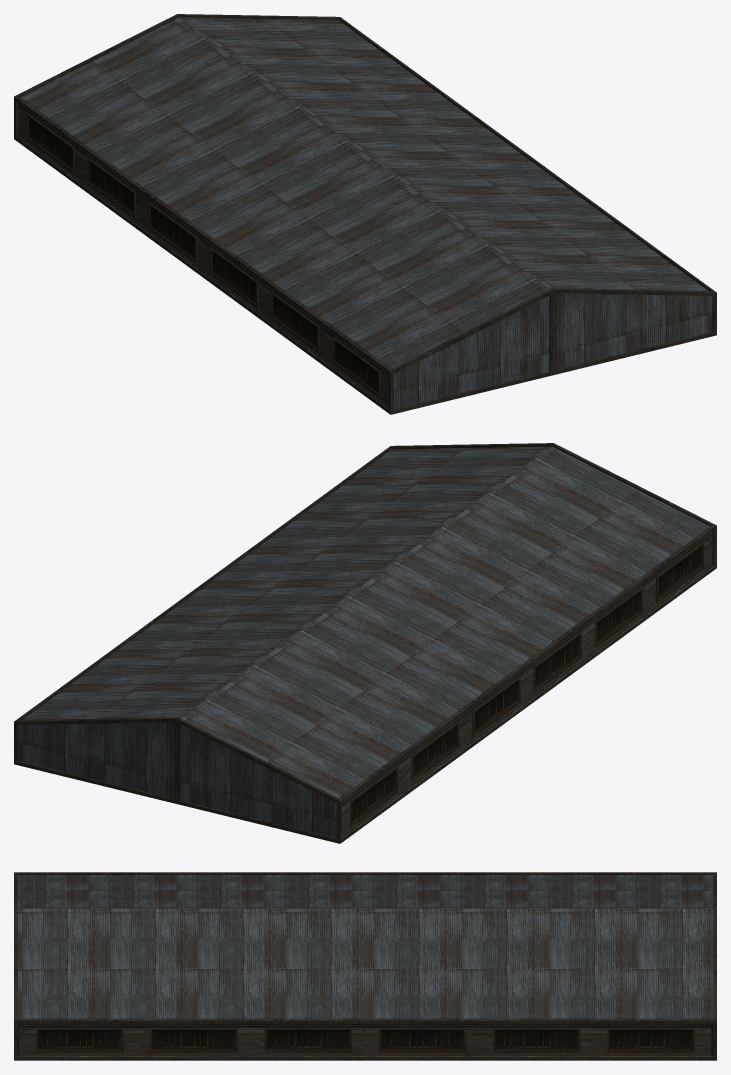
Rendered from roof_mh_4_a_4.glb.
3 views of the same model, one above another, from view 1: azimuth 30°, elevation 25°; view 2: azimuth 150°, elevation 25°; view 3: azimuth 270°, elevation 25° (orthographic). The views are drawn at different scales.
Visible parts, largest first — view 1: roof_mh_4_a_4; view 2: roof_mh_4_a_4; view 3: roof_mh_4_a_4.
Boxes of the visible parts, x1,y1,x2,y2 form: roof_mh_4_a_4: (14,14,716,414); roof_mh_4_a_4: (14,443,716,843); roof_mh_4_a_4: (14,872,716,1060).
Size of the model in its own units: 8 by 2 by 16.
Materials: 6 (6 with a texture image).
